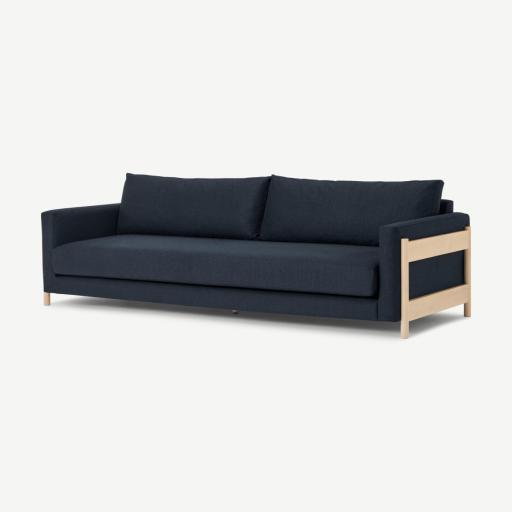back_cushion: (118, 173, 443, 246)
base: (50, 276, 380, 321)
left_arm: (377, 213, 469, 321), (412, 273, 432, 290)
legs: (400, 226, 470, 339), (43, 292, 50, 306)
one-seater: (0, 0, 511, 512)
right_arm: (42, 205, 120, 291)
seat_cushion: (51, 234, 378, 297)
